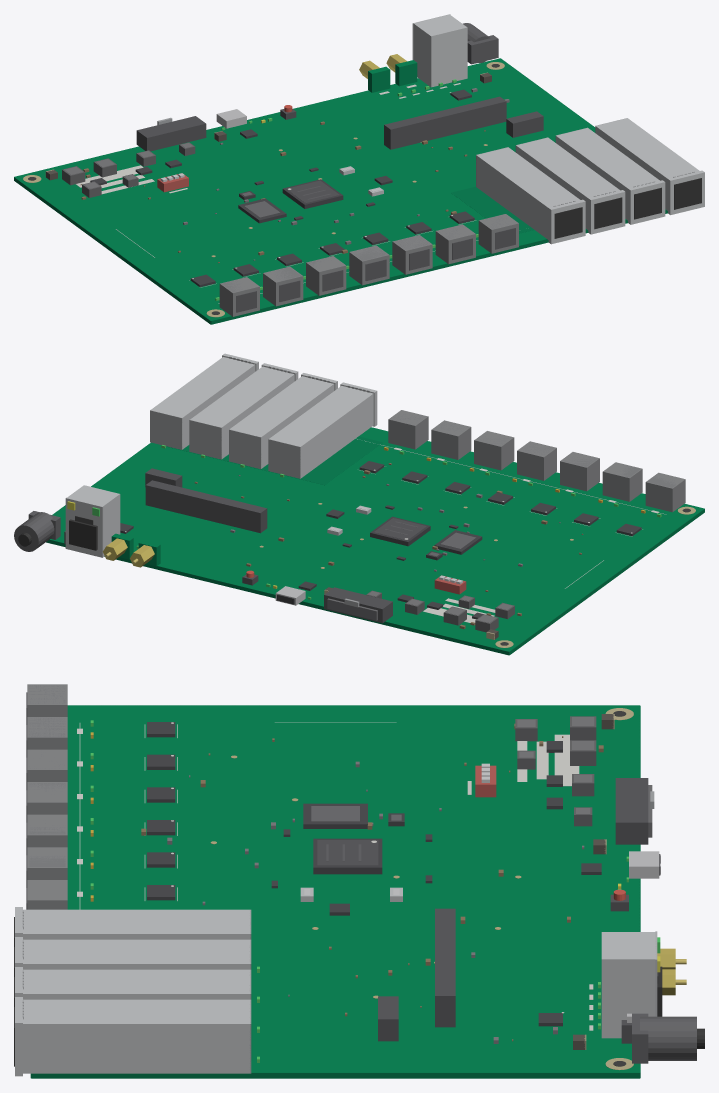
The model's file is EVB-LAN9692-LM.glb.
3 views of the same model, one above another, from view 1: azimuth 30°, elevation 25°; view 2: azimuth 150°, elevation 25°; view 3: azimuth 270°, elevation 25° (orthographic). The views are drawn at different scales.
Visible parts, largest first — view 1: p000, p163, p204, p079, p100, p081, p121, p142, p193, p001, p396, p055 (+24 smaller); view 2: p000, p204, p079, p142, p121, p100, p081, p396, p002, p163, p063, p055 (+21 smaller); view 3: p000, p145, p079, p142, p121, p100, p163, p004, p204, p175, p193, p019 (+18 smaller).
Boxes of the visible parts, x1,y1,x2,y2 form: p000: (15,58,665,320); p163: (413,15,467,87); p204: (384,96,506,149); p079: (476,147,584,211); p100: (516,137,619,198); p081: (476,156,553,242); p121: (556,128,659,189); p142: (595,118,698,179); p193: (136,116,206,151); p001: (211,210,667,324); p396: (451,186,534,233); p055: (392,235,432,274); p000: (50,427,703,651); p204: (145,480,267,533); p079: (269,386,373,446); p142: (150,357,255,418); p121: (190,366,294,427); p100: (230,376,333,437); p081: (300,394,373,477); p396: (167,436,382,485); p002: (46,539,509,655); p163: (67,485,120,556); p063: (431,420,471,459); p055: (474,431,514,470); p000: (67,705,639,1072); p145: (23,1023,250,1073); p079: (23,909,250,935); p142: (23,999,250,1025); p121: (23,969,250,995); p100: (23,939,250,965); p163: (601,932,656,1038); p004: (31,1072,639,1078); p204: (435,908,455,1027); p175: (640,1016,696,1060); p193: (615,778,648,844); p019: (317,840,378,865).
Size of the model in its own units: 215 by 25 by 170.
